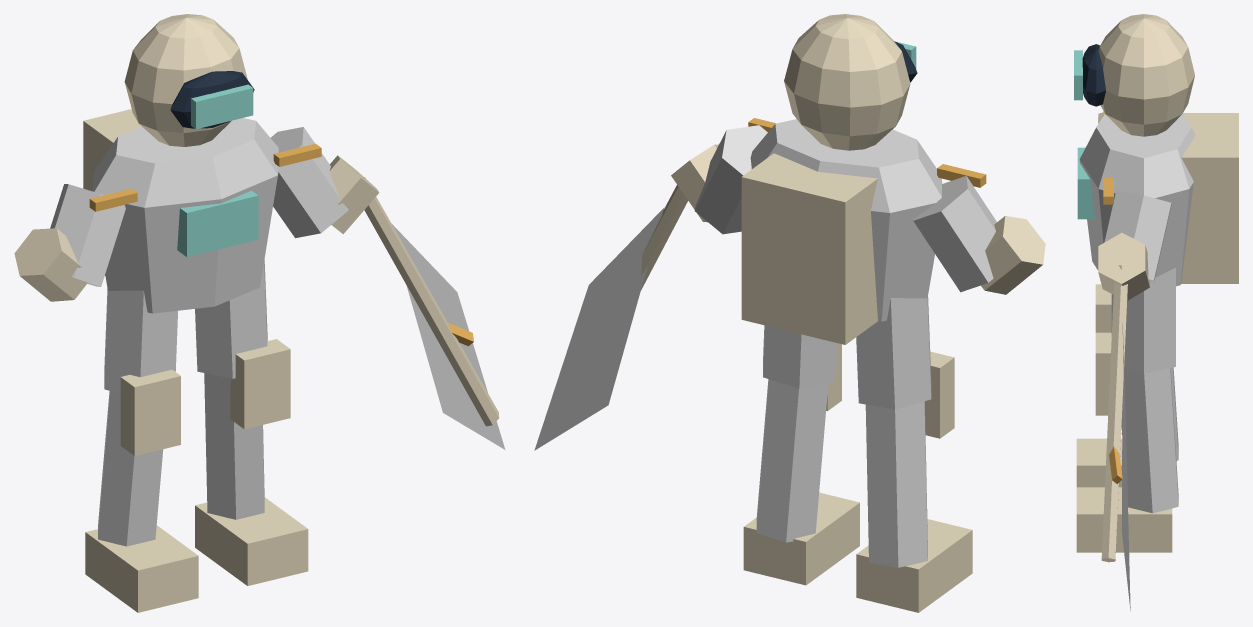
File: space_knight_l1_inactive.glb
The picture shows the model from 3 angles, left to right: view 1: azimuth 30°, elevation 25°; view 2: azimuth 150°, elevation 25°; view 3: azimuth 270°, elevation 25°; orthographic projection. The views are drawn at different scales.
Parts seen in each view (by area): view 1: WoodBody, FixedDetails, BrassTrim; view 2: WoodBody, FixedDetails, BrassTrim; view 3: FixedDetails, WoodBody, BrassTrim.
Part boxes in pixels (x1=…): WoodBody: x1=50, y1=118, x2=505, y2=546; FixedDetails: x1=14, y1=14, x2=379, y2=612; BrassTrim: x1=89, y1=143, x2=499, y2=426; WoodBody: x1=534, y1=119, x2=996, y2=567; FixedDetails: x1=671, y1=14, x2=1045, y2=612; BrassTrim: x1=641, y1=118, x2=986, y2=289; FixedDetails: x1=1074, y1=14, x2=1238, y2=552; WoodBody: x1=1079, y1=114, x2=1195, y2=611; BrassTrim: x1=1101, y1=111, x2=1127, y2=562.
Bounding box in the file's own units: 0.5005 × 0.5332 × 0.1604.
